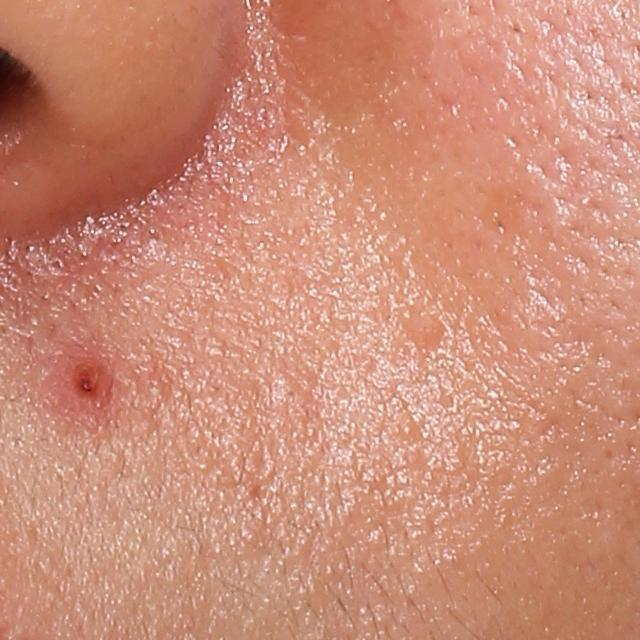papule: (60, 346, 116, 410)
